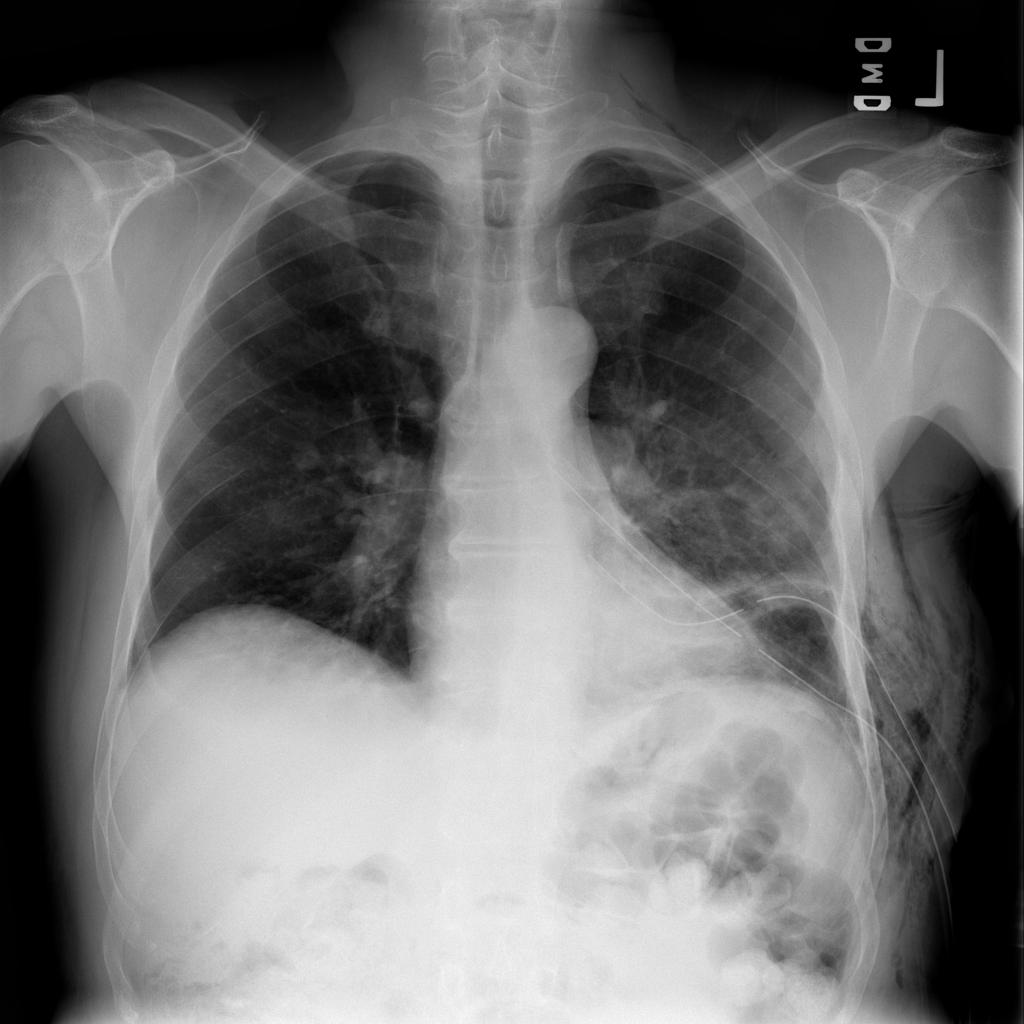nodule: (276, 431, 330, 480)
